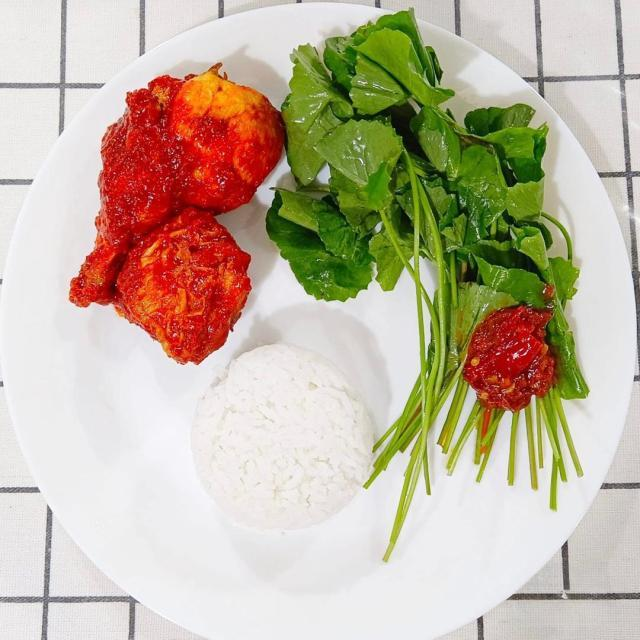Chicken: (62, 64, 283, 371)
Plate: (0, 489, 142, 639)
Rice: (190, 343, 372, 533)
Vegetables: (268, 2, 594, 567)
